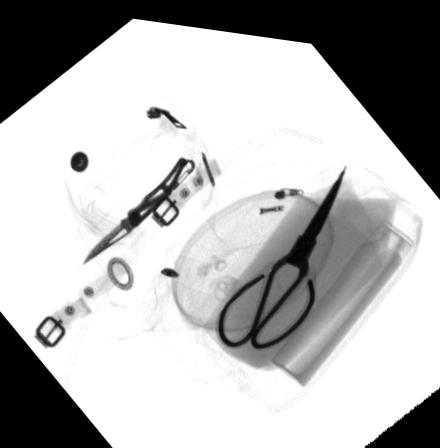Knife: (81, 152, 195, 263)
Scissors: (213, 153, 346, 341)
